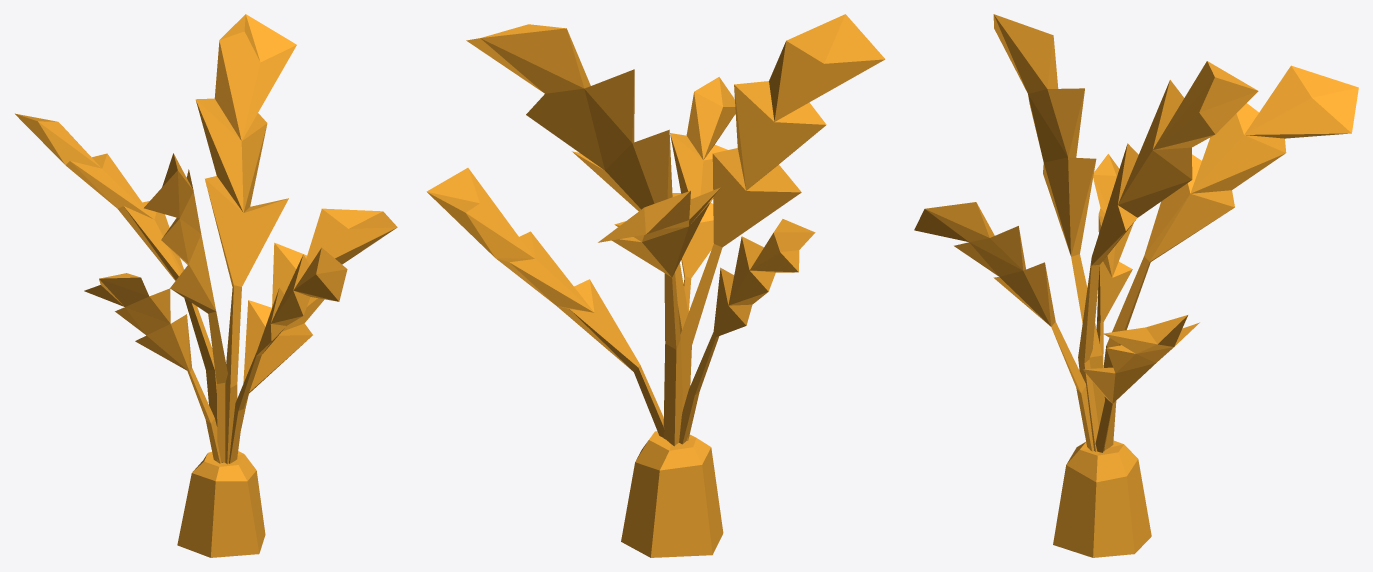
Rendered from SM_Carrot_Plant_Ripe_B.fbx.
3 renders of one model, left to right at view 1: azimuth 30°, elevation 25°; view 2: azimuth 150°, elevation 25°; view 3: azimuth 270°, elevation 25°, orthographic. The views are drawn at different scales.
Parts seen in each view (by area): view 1: carrot-plant-ripe-b; view 2: carrot-plant-ripe-b; view 3: carrot-plant-ripe-b.
Boxes of the visible parts, left/top/right/bottom form: carrot-plant-ripe-b: left=15, top=14, right=397, bottom=557; carrot-plant-ripe-b: left=426, top=14, right=885, bottom=557; carrot-plant-ripe-b: left=914, top=14, right=1358, bottom=557.
Size of the model in its own units: 0.3299 by 0.4568 by 0.3682.
